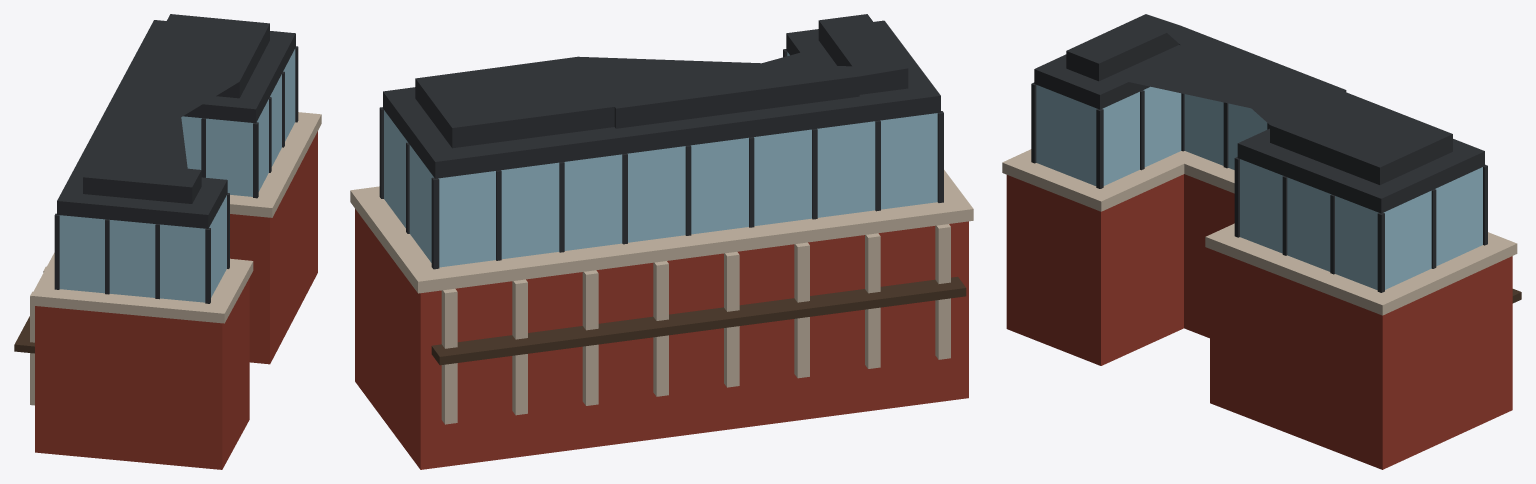
File: miyahara.glb
3 views of the same model, side by side, from view 1: azimuth 30°, elevation 25°; view 2: azimuth 150°, elevation 25°; view 3: azimuth 270°, elevation 25° (orthographic). The views are drawn at different scales.
Parts seen in each view (by area): view 1: miyahara; view 2: miyahara; view 3: miyahara.
Boxes of the visible parts, x1=… form: miyahara: x1=14, y1=14, x2=321, y2=469; miyahara: x1=350, y1=14, x2=973, y2=469; miyahara: x1=1002, y1=14, x2=1521, y2=469.
Bounding box in the file's own units: 30.66 × 18.8 × 31.95.
